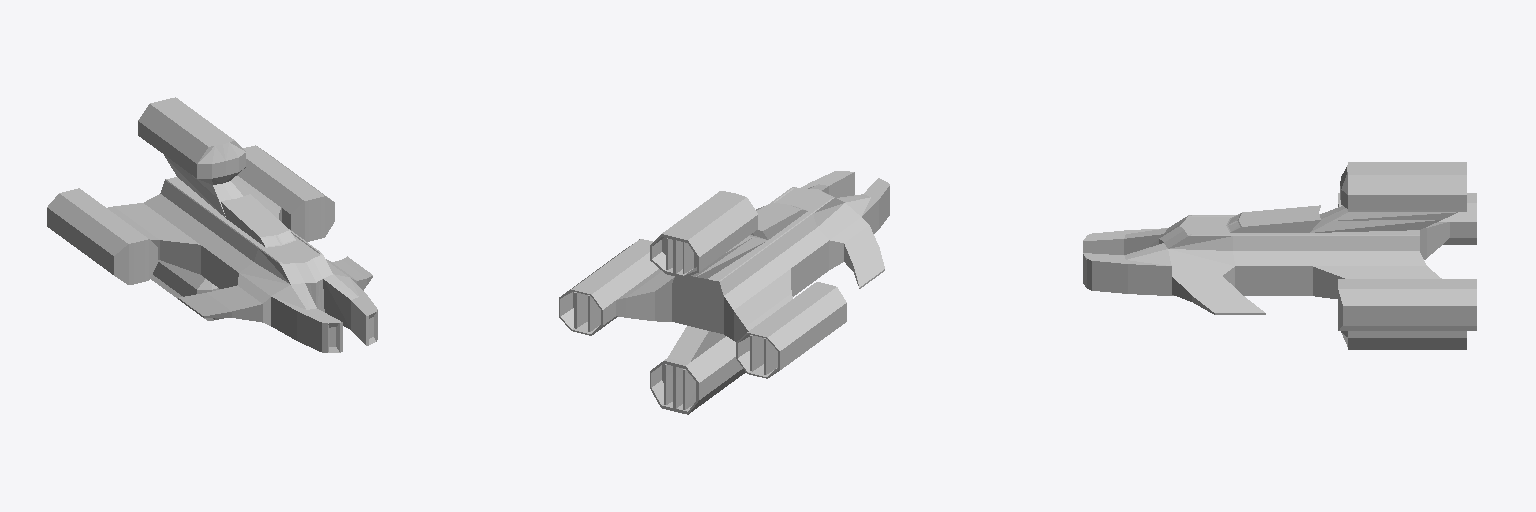
File: Cruiser.obj
3 renders of one model, left to right at view 1: azimuth 30°, elevation 25°; view 2: azimuth 150°, elevation 25°; view 3: azimuth 270°, elevation 25°, orthographic.
Parts seen in each view (by area): view 1: pCube3; view 2: pCube3; view 3: pCube3.
Part boxes in pixels (left/top/right/bottom): pCube3: left=47, top=97, right=377, bottom=352; pCube3: left=559, top=171, right=889, bottom=414; pCube3: left=1083, top=162, right=1476, bottom=349.
Bounding box in the file's own units: 154 × 116 × 239.